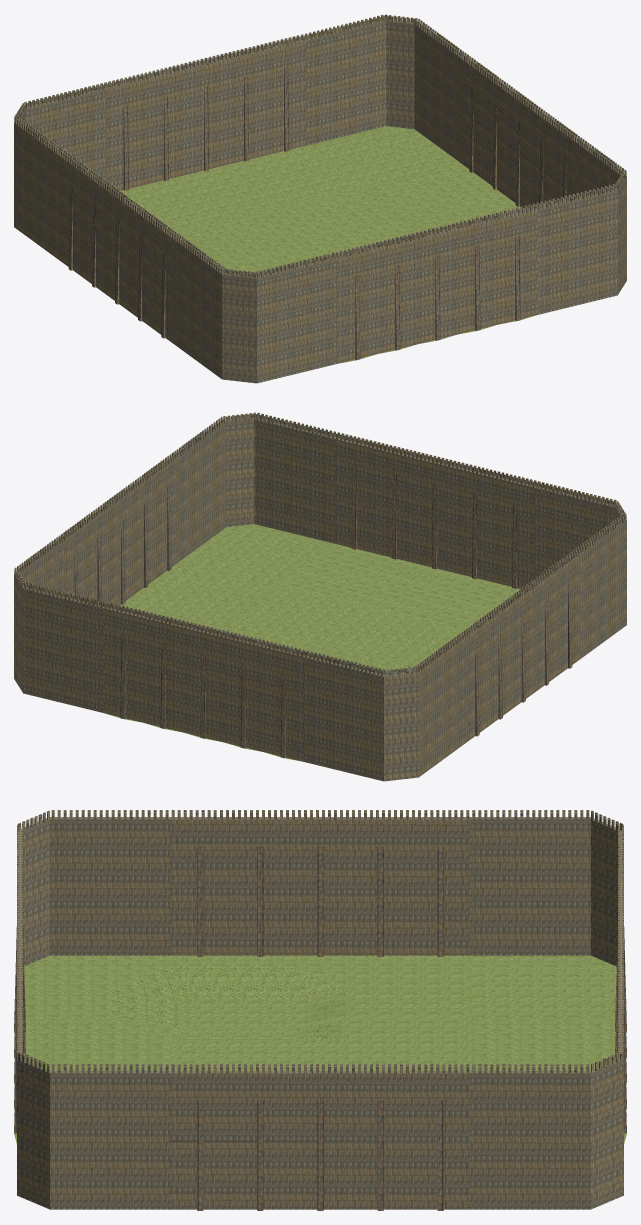
File: map50Field1_Mini.fbx
3 renders of one model, top to bottom at view 1: azimuth 30°, elevation 25°; view 2: azimuth 150°, elevation 25°; view 3: azimuth 270°, elevation 25°, orthographic. The views are drawn at different scales.
Visible parts, largest first — view 1: map50F_Layer2, map50F_Layer1, map50F_Layer3, map50F_Layer4; view 2: map50F_Layer2, map50F_Layer1, map50F_Layer3, map50F_Layer4; view 3: map50F_Layer2, map50F_Layer1, map50F_Layer3, map50F_Layer4.
Boxes of the visible parts, x1,y1,x2,y2 form: map50F_Layer2: (14,20,626,383); map50F_Layer1: (121,126,534,363); map50F_Layer3: (14,14,626,278); map50F_Layer4: (68,66,566,360); map50F_Layer2: (14,418,626,781); map50F_Layer1: (106,524,519,761); map50F_Layer3: (14,412,626,676); map50F_Layer4: (74,464,572,758); map50F_Layer2: (17,817,623,1209); map50F_Layer1: (14,955,626,1143); map50F_Layer3: (17,810,623,1073); map50F_Layer4: (14,846,626,1210).
Bounding box in the file's own units: 40.8 × 11.17 × 40.8.
Materials: 4 (4 with a texture image).
